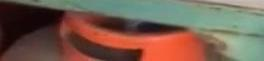cylinder: (1, 0, 264, 61)
